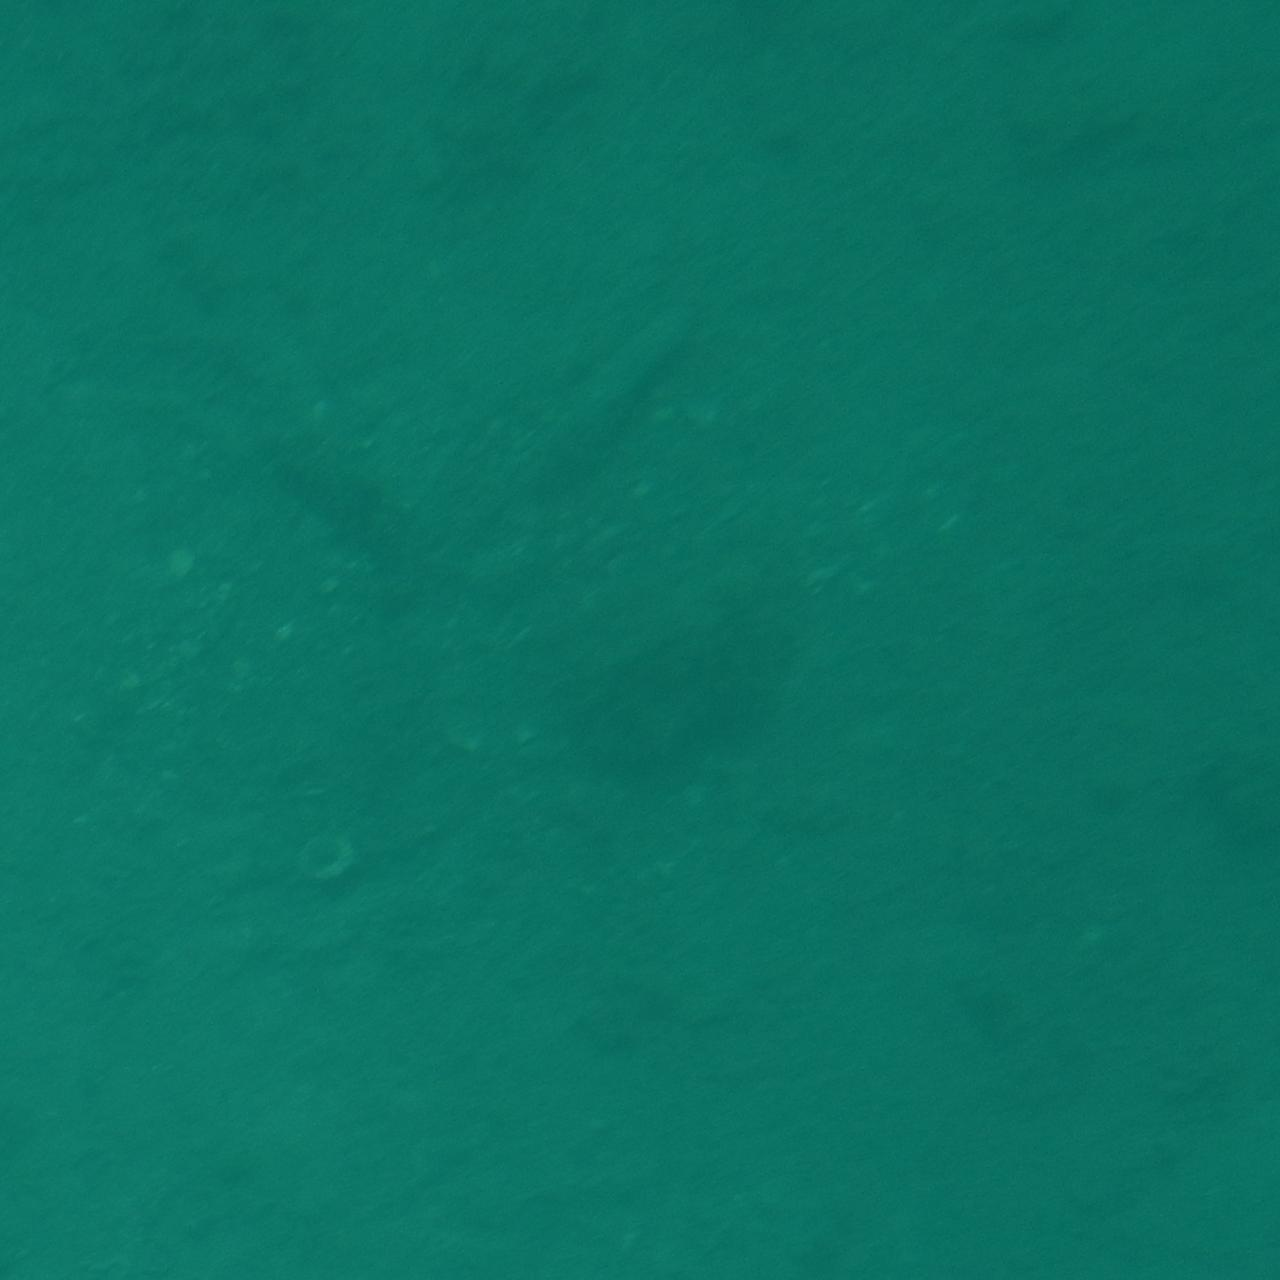Holothuria tubulosa: (550, 290, 730, 526)
